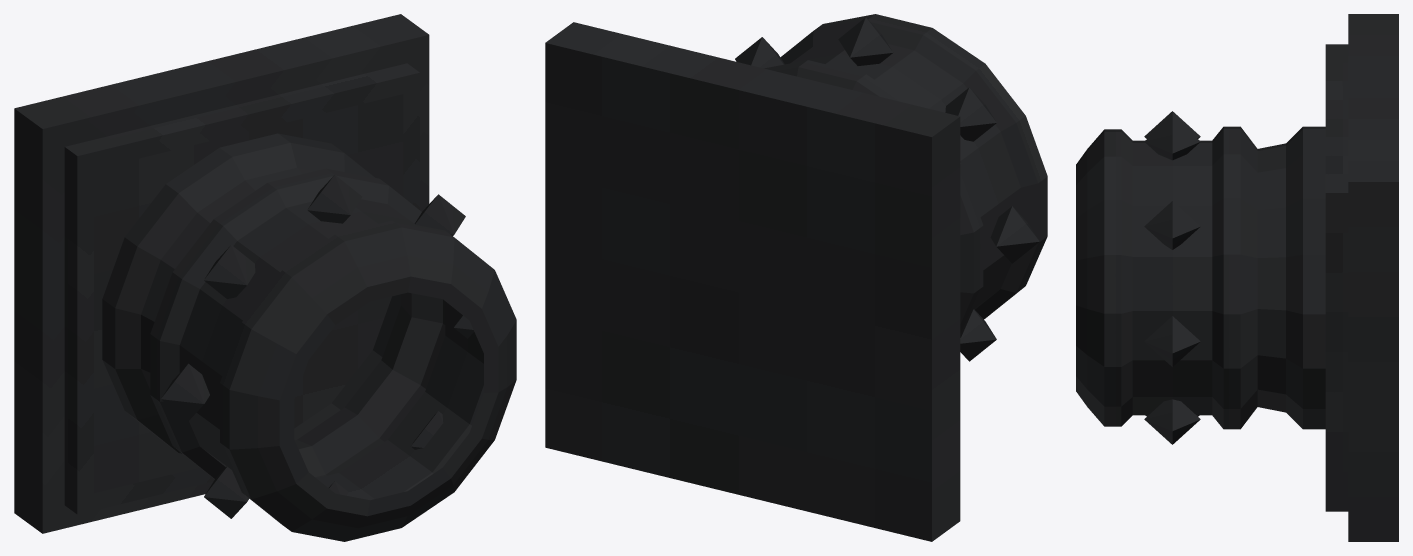
Rendered from decopole_labroadwayrose_base_n.obj.
3 renders of one model, left to right at view 1: azimuth 30°, elevation 25°; view 2: azimuth 150°, elevation 25°; view 3: azimuth 270°, elevation 25°, orthographic. The views are drawn at different scales.
Parts seen in each view (by area): view 1: decopole_labroadwayrose_base_n; view 2: decopole_labroadwayrose_base_n; view 3: decopole_labroadwayrose_base_n.
Part boxes in pixels (box(x1,y1,x2,y2)): decopole_labroadwayrose_base_n: box(14, 14, 516, 541); decopole_labroadwayrose_base_n: box(545, 14, 1047, 541); decopole_labroadwayrose_base_n: box(1076, 14, 1398, 541).
Size of the model in its own units: 0.875 by 0.875 by 0.7112.
